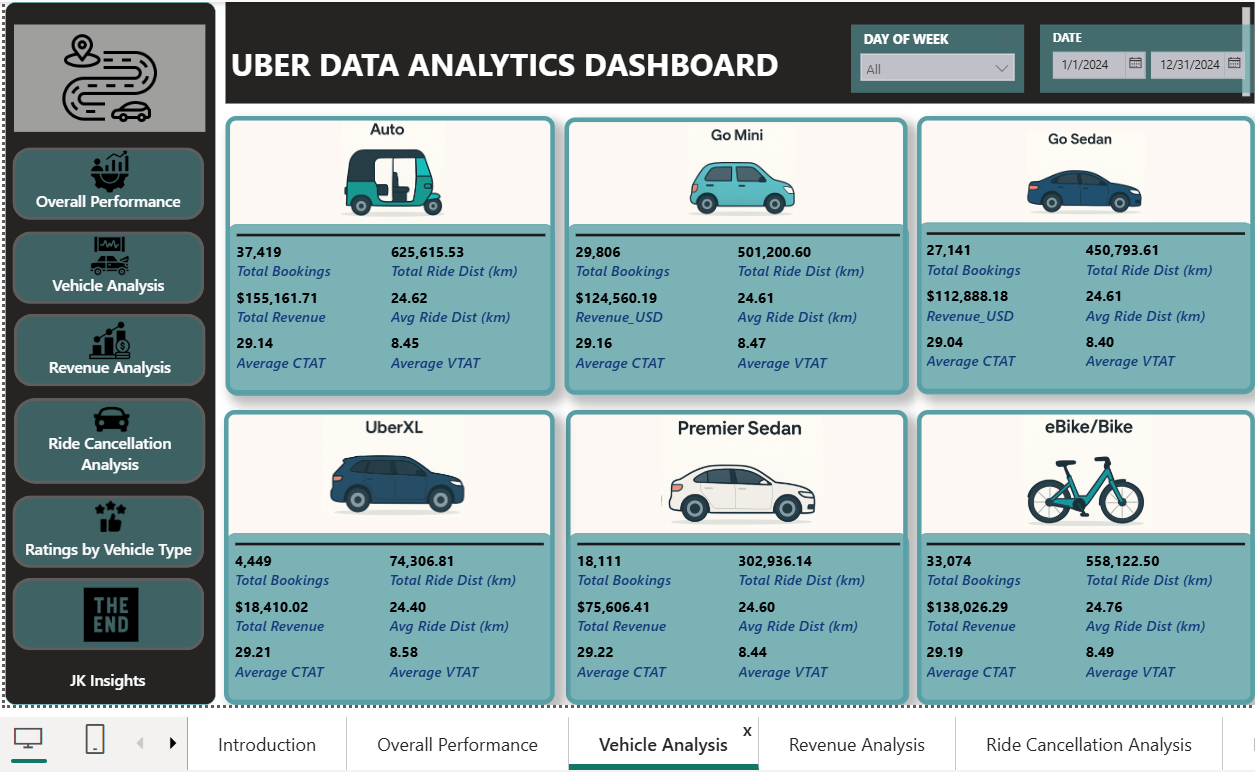

This screenshot's page, from the dashboard's own definition file:
{"tool":"powerbi","page":{"name":"Vehicle Analysis","canvas":[1280,720],"ordinal":2},"visuals":[{"type":"textbox","box":[0,0,215.7,720],"z":0,"group":"g1"},{"type":"textbox","box":[574.3,418.6,350,301.4],"z":0},{"type":"actionButton","box":[8.2,149.3,196.2,74.1],"z":1000,"group":"g1"},{"type":"textbox","box":[224.3,418.6,338.6,301.4],"z":1000},{"type":"image","box":[9.6,23.3,196.2,109.8],"z":2000,"group":"g1"},{"type":"textbox","box":[226.4,116.6,337.6,285.4],"z":2000},{"type":"image","box":[291.4,117.1,211.4,110],"z":3000},{"type":"textbox","box":[61.7,677.9,87.8,32.9],"z":3000,"group":"g1"},{"type":"multiRowCard","title":"KPIS","fields":{"Values":["ncr_ride_bookings.Total Bookings","ncr_ride_bookings.Total Ride Dist (km)","ncr_ride_bookings.Revenue_USD","ncr_ride_bookings.\"Avg Ride Dist(km)\"","ncr_ride_bookings.Average CTAT","ncr_ride_bookings.Average VTAT"]},"box":[227.1,227.1,335.7,175.7],"z":4000},{"type":"actionButton","box":[8.2,234.4,196.2,74.1],"z":4000,"group":"g1"},{"type":"textbox","box":[572.9,118.6,351.4,284.3],"z":5000},{"type":"actionButton","box":[9.6,319.4,196.2,74.1],"z":5000,"group":"g1"},{"type":"multiRowCard","title":"KPIS","fields":{"Values":["ncr_ride_bookings.Total Bookings","ncr_ride_bookings.Total Ride Dist (km)","ncr_ride_bookings.Revenue_USD","ncr_ride_bookings.\"Avg Ride Dist(km)\"","ncr_ride_bookings.Average CTAT","ncr_ride_bookings.Average VTAT"]},"box":[574.3,227.1,351.4,174.3],"z":6000},{"type":"actionButton","box":[9.6,406.2,196.2,87.8],"z":6000,"group":"g1"},{"type":"image","box":[691.4,121.4,127.1,105.7],"z":7000},{"type":"actionButton","box":[8.2,590.1,196.2,74.1],"z":7000,"group":"g1"},{"type":"textbox","box":[934.3,117.1,345.7,284.3],"z":8000},{"type":"image","box":[48,145.5,119.4,54.9],"z":8000,"group":"g1"},{"type":"image","box":[1017.1,127.1,180,98.6],"z":9000},{"type":"actionButton","box":[8.2,505,196.2,74.1],"z":9000,"group":"g1"},{"type":"multiRowCard","title":"KPIS","fields":{"Values":["ncr_ride_bookings.Total Bookings","ncr_ride_bookings.Total Ride Dist (km)","ncr_ride_bookings.Revenue_USD","ncr_ride_bookings.\"Avg Ride Dist(km)\"","ncr_ride_bookings.Average CTAT","ncr_ride_bookings.Average VTAT"]},"box":[934.3,225.7,345.7,175.7],"z":10000},{"type":"image","box":[46.7,234.6,122.1,49.4],"z":10000,"group":"g1"},{"type":"image","box":[78.2,319.7,57.6,53.5],"z":11000,"group":"g1"},{"type":"image","box":[307.1,418.6,181.4,114.3],"z":11000},{"type":"image","box":[67.2,403.4,83.7,46.7],"z":12000,"group":"g1"},{"type":"multiRowCard","title":"KPIS","fields":{"Values":["ncr_ride_bookings.Total Bookings","ncr_ride_bookings.Total Ride Dist (km)","ncr_ride_bookings.Revenue_USD","ncr_ride_bookings.\"Avg Ride Dist(km)\"","ncr_ride_bookings.Average CTAT","ncr_ride_bookings.Average VTAT"]},"box":[225.7,544.3,335.7,175.7],"z":12000},{"type":"image","box":[605.7,418.6,298.6,125.7],"z":13000},{"type":"image","box":[61.7,505,93.3,42.5],"z":13000,"group":"g1"},{"type":"multiRowCard","title":"KPIS","fields":{"Values":["ncr_ride_bookings.Total Bookings","ncr_ride_bookings.Total Ride Dist (km)","ncr_ride_bookings.Revenue_USD","ncr_ride_bookings.\"Avg Ride Dist(km)\"","ncr_ride_bookings.Average CTAT","ncr_ride_bookings.Average VTAT"]},"box":[575.7,544.3,350,175.7],"z":14000},{"type":"image","box":[71.4,594.2,75.5,65.9],"z":14000,"group":"g1"},{"type":"textbox","box":[934.3,418.6,345.7,301.4],"z":15000},{"type":"image","box":[1001.4,418.6,211.4,125.7],"z":16000},{"type":"multiRowCard","title":"KPIS","fields":{"Values":["ncr_ride_bookings.Total Bookings","ncr_ride_bookings.Total Ride Dist (km)","ncr_ride_bookings.Revenue_USD","ncr_ride_bookings.\"Avg Ride Dist(km)\"","ncr_ride_bookings.Average CTAT","ncr_ride_bookings.Average VTAT"]},"box":[934.3,544.3,345.7,175.7],"z":17000},{"type":"textbox","box":[225.7,0,1054.3,104.3],"z":18000},{"type":"slicer","title":"DAY OF THE WEEK","fields":{"Values":["ncr_ride_bookings.Booking Day"]},"box":[865.9,23.3,177,70],"z":19000},{"type":"slicer","fields":{"Values":["ncr_ride_bookings.Date"]},"box":[1060.4,23.3,219.6,70],"z":20000},{"type":"group","id":"g1","title":"Group 1","box":[0,0,215.7,720],"z":21000}]}

Visuals, with their boxes on the page's 1280x720 design canvas (x1, y1, x2, y2). These are canvas units, not pixel positions in the 1255x772 screenshot, which may show the page scaled, cropped or inside an application window:
textbox: Rect(0, 0, 216, 720)
textbox: Rect(574, 419, 924, 720)
actionButton: Rect(8, 149, 204, 223)
textbox: Rect(224, 419, 563, 720)
image: Rect(10, 23, 206, 133)
textbox: Rect(226, 117, 564, 402)
image: Rect(291, 117, 503, 227)
textbox: Rect(62, 678, 150, 711)
"KPIS" multiRowCard: Rect(227, 227, 563, 403)
actionButton: Rect(8, 234, 204, 308)
textbox: Rect(573, 119, 924, 403)
actionButton: Rect(10, 319, 206, 394)
"KPIS" multiRowCard: Rect(574, 227, 926, 401)
actionButton: Rect(10, 406, 206, 494)
image: Rect(691, 121, 818, 227)
actionButton: Rect(8, 590, 204, 664)
textbox: Rect(934, 117, 1280, 401)
image: Rect(48, 146, 167, 200)
image: Rect(1017, 127, 1197, 226)
actionButton: Rect(8, 505, 204, 579)
"KPIS" multiRowCard: Rect(934, 226, 1280, 401)
image: Rect(47, 235, 169, 284)
image: Rect(78, 320, 136, 373)
image: Rect(307, 419, 488, 533)
image: Rect(67, 403, 151, 450)
"KPIS" multiRowCard: Rect(226, 544, 561, 720)
image: Rect(606, 419, 904, 544)
image: Rect(62, 505, 155, 548)
"KPIS" multiRowCard: Rect(576, 544, 926, 720)
image: Rect(71, 594, 147, 660)
textbox: Rect(934, 419, 1280, 720)
image: Rect(1001, 419, 1213, 544)
"KPIS" multiRowCard: Rect(934, 544, 1280, 720)
textbox: Rect(226, 0, 1280, 104)
"DAY OF THE WEEK" slicer: Rect(866, 23, 1043, 93)
slicer - ncr_ride_bookings.Date: Rect(1060, 23, 1280, 93)
"Group 1" group: Rect(0, 0, 216, 720)
